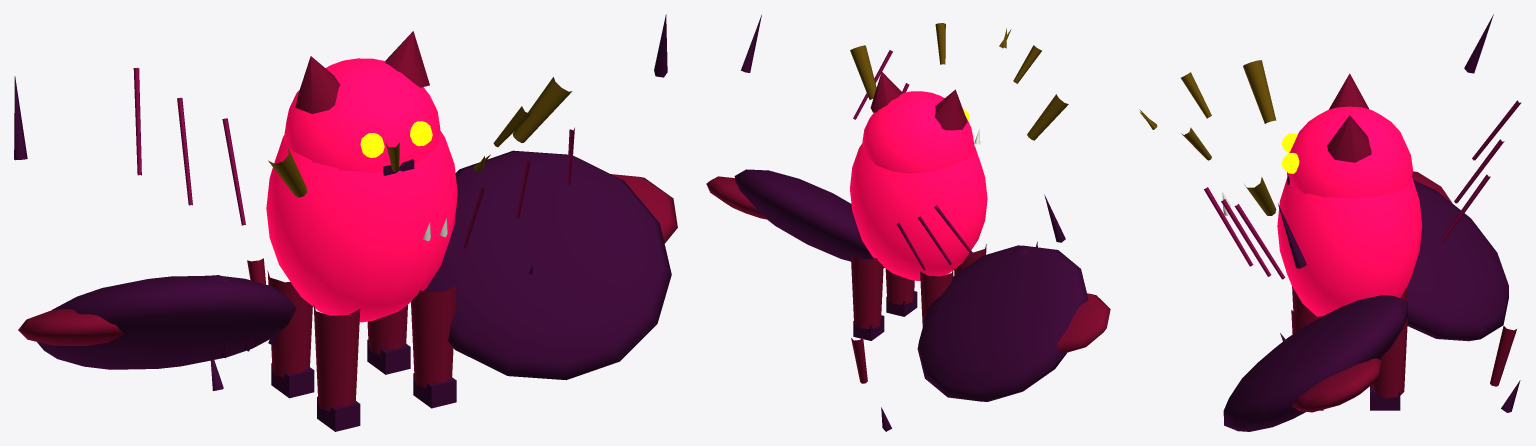
Rendered from cat-demon.glb.
3 renders of one model, left to right at view 1: azimuth 30°, elevation 25°; view 2: azimuth 150°, elevation 25°; view 3: azimuth 270°, elevation 25°, orthographic. The views are drawn at different scales.
Visible parts, largest first — view 1: wing-1, body, wing--1, head, leg--0.46 (×2), leg-0.46 (×2), wing2--1, hoof-0.46 (×2), hoof--0.46 (×2), ear-r, wing2-1, horn-b--1 (+3 smaller); view 2: wing--1, body, wing-1, head, leg-0.46 (×2), wing2--1, wing2-1, ear-r, leg--0.46, hoof-0.46 (×2), horn-b--1, horn-b-1 (+2 smaller); view 3: body, wing-1, wing--1, head, wing2-1, leg-0.46, ear-l, horn-b-1, tail-2, ear-r, horn-b--1, hoof-0.46 (+8 smaller).
Boxes of the visible parts, <box> form: wing-1: <box>423,150,671,380</box>; body: <box>266,130,457,322</box>; wing--1: <box>37,275,296,369</box>; head: <box>284,58,440,173</box>; leg--0.46 (×2): <box>267,270,360,411</box>; leg-0.46 (×2): <box>367,285,456,387</box>; wing2--1: <box>18,309,123,345</box>; hoof-0.46 (×2): <box>367,339,456,408</box>; hoof--0.46 (×2): <box>271,363,360,431</box>; ear-r: <box>295,56,340,113</box>; wing2-1: <box>611,174,677,243</box>; horn-b--1: <box>512,77,572,142</box>; wing--1: <box>917,245,1088,401</box>; body: <box>850,143,987,280</box>; wing-1: <box>734,169,884,267</box>; head: <box>862,91,974,173</box>; leg-0.46 (×2): <box>850,254,914,328</box>; wing2--1: <box>1057,293,1110,352</box>; wing2-1: <box>706,176,767,219</box>; ear-r: <box>934,89,967,130</box>; leg--0.46: <box>920,268,953,326</box>; hoof-0.46 (×2): <box>853,291,917,340</box>; horn-b--1: <box>850,45,876,99</box>; horn-b-1: <box>1027,94,1068,140</box>; body: <box>1277,177,1422,316</box>; wing-1: <box>1223,295,1407,431</box>; wing--1: <box>1407,180,1508,341</box>; head: <box>1287,106,1412,198</box>; wing2-1: <box>1291,358,1381,412</box>; leg-0.46: <box>1371,310,1408,398</box>; ear-l: <box>1327,115,1371,162</box>; horn-b-1: <box>1243,60,1276,123</box>; tail-2: <box>1490,326,1516,386</box>; ear-r: <box>1328,73,1368,109</box>; horn-b--1: <box>1244,177,1276,215</box>; hoof-0.46: <box>1370,385,1400,410</box>.
Size of the model in its own units: 5.75 by 3.7 by 3.79.
